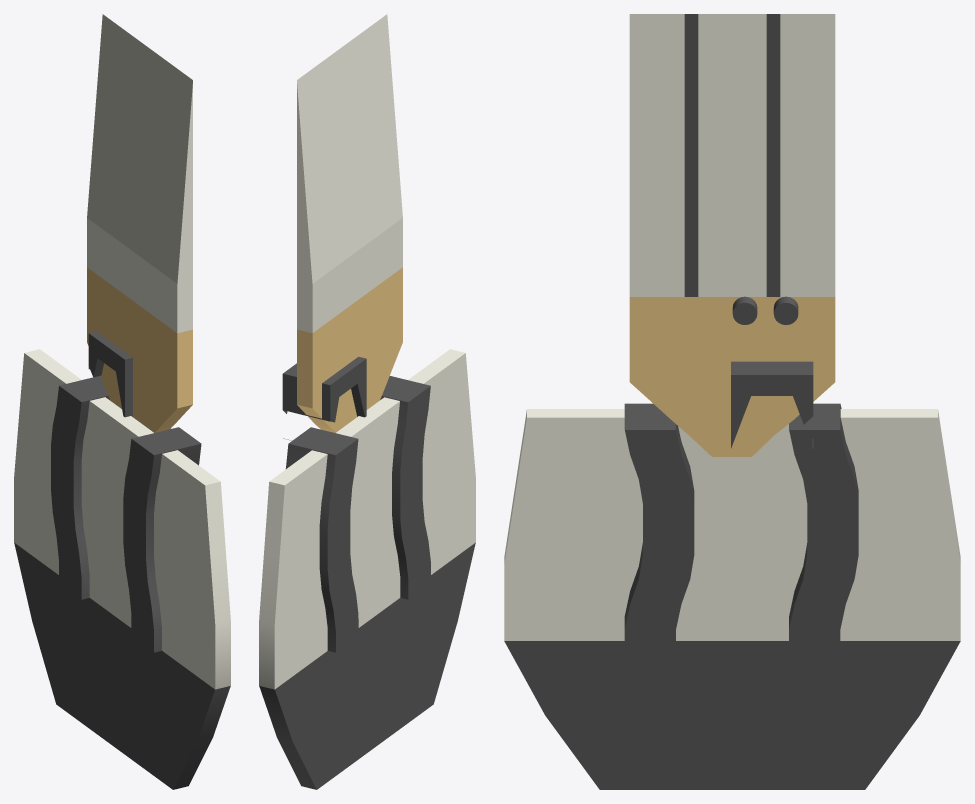
The model's file is Right.fbx.
3 renders of one model, left to right at view 1: azimuth 30°, elevation 25°; view 2: azimuth 150°, elevation 25°; view 3: azimuth 270°, elevation 25°, orthographic. The views are drawn at different scales.
Visible parts, largest first — view 1: pCube9; view 2: pCube9; view 3: pCube9.
Boxes of the visible parts, left/top/right/bottom form: pCube9: left=14, top=14, right=230, bottom=789; pCube9: left=259, top=14, right=475, bottom=789; pCube9: left=504, top=14, right=960, bottom=789.
Bounding box in the file's own units: 0.4153 × 4.22 × 2.22.
